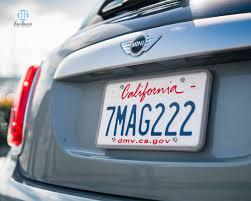2: (180, 101, 196, 137), (165, 102, 180, 136), (152, 102, 165, 137)
7: (106, 106, 116, 137)
A: (126, 104, 138, 137)
G: (140, 103, 152, 138)
M: (114, 104, 127, 137)
